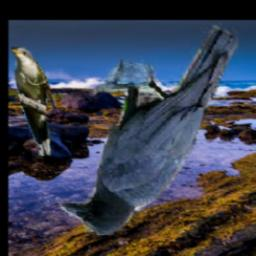Crow: (59, 23, 238, 235)
Cuckoo: (9, 47, 55, 156)
